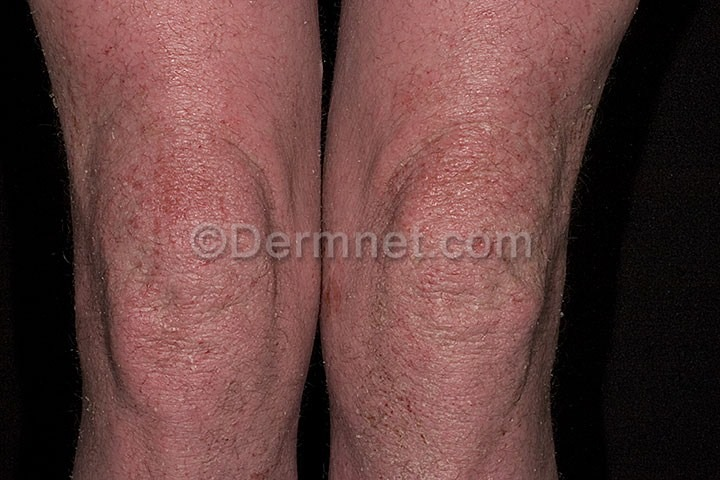Eczema: (54, 3, 306, 480), (347, 3, 567, 480)
